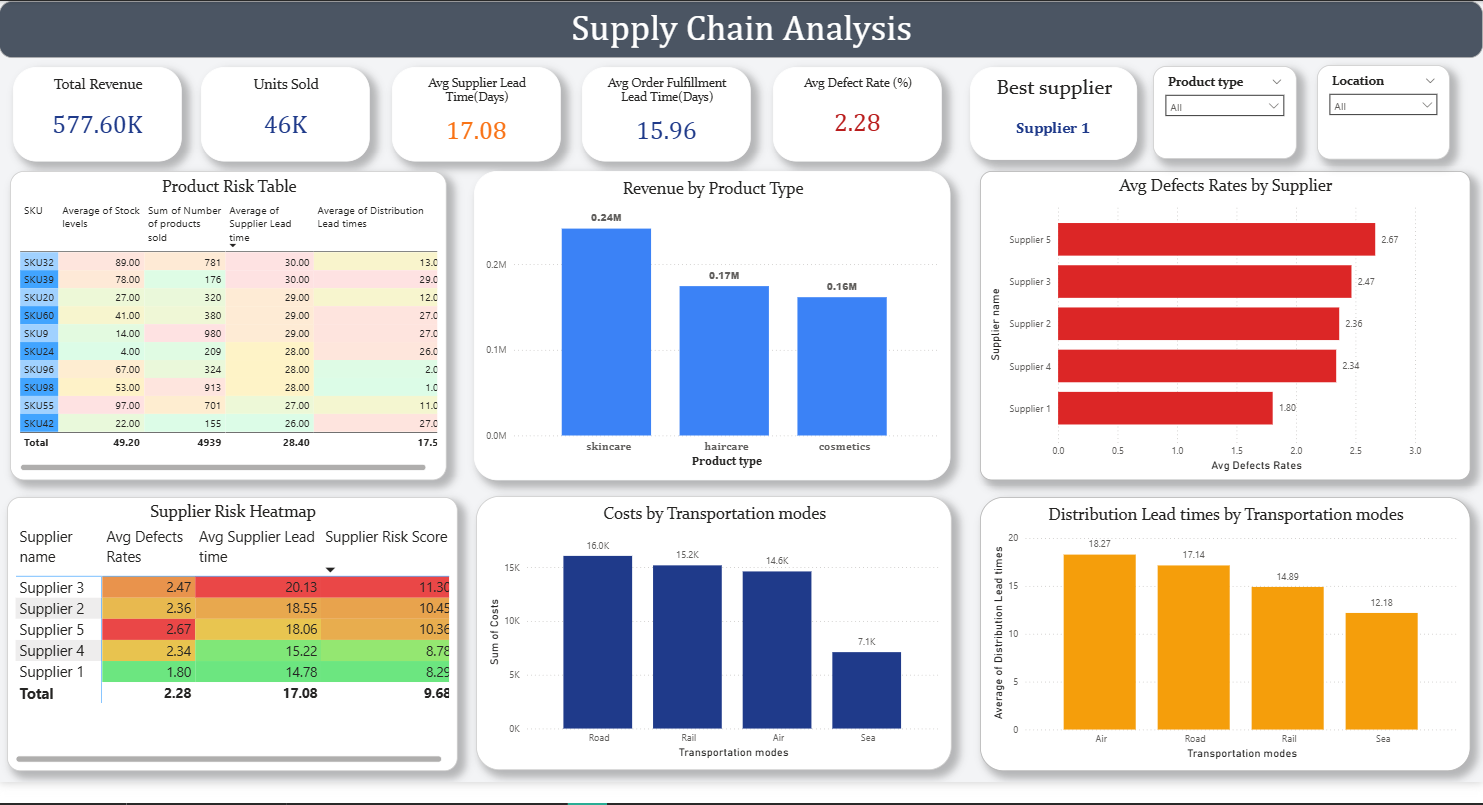

This screenshot's page, from the dashboard's own definition file:
{"tool":"powerbi","page":{"name":"Supply Chain Analysis","canvas":[1900,1000],"ordinal":0},"visuals":[{"type":"textbox","title":"Supply Chain Analysis","box":[0,0,1900,73.3],"z":0},{"type":"cardVisual","title":"Total Revenue","fields":{"Data":["supply_chain_data.Total Revenue"]},"box":[17.4,84.2,216,121],"z":1000},{"type":"cardVisual","title":"Avg Supplier Lead Time(Days)","fields":{"Data":["supply_chain_data.Avg Supplier Lead time"]},"box":[503,84.2,216,121],"z":2000},{"type":"cardVisual","title":"Units Sold","fields":{"Data":["supply_chain_data.Total Units Sold"]},"box":[259.2,84.2,216,121],"z":3000},{"type":"cardVisual","title":"Avg Order Fulfillment Lead Time(Days)","fields":{"Data":["supply_chain_data.Avg Distribution Lead time"]},"box":[746.7,84.2,216,121],"z":4000},{"type":"cardVisual","title":"Avg Defect Rate (%)","fields":{"Data":["supply_chain_data.Avg Defects Rates"]},"box":[990.4,84.2,216,121],"z":5000},{"type":"cardVisual","title":"Best supplier","fields":{"Data":["supply_chain_data.Best supplier"]},"box":[1243.8,84,213.9,119.4],"z":6000},{"type":"tableEx","title":"Product Risk Table","fields":{"Values":["supply_chain_data.SKU","Avg(supply_chain_data.Stock levels)","Sum(supply_chain_data.Number of products sold)","Avg(supply_chain_data.Supplier Lead time)","Avg(supply_chain_data.Distribution Lead times)"]},"box":[14.5,217.4,559.4,395.7],"z":7000},{"type":"clusteredColumnChart","title":"Revenue by Product Type","fields":{"Category":["supply_chain_data.Product type"],"Y":["supply_chain_data.Total Revenue"]},"box":[608.7,217.4,610.1,395.7],"z":8000},{"type":"clusteredBarChart","title":"Avg Defects Rates by Supplier","fields":{"Category":["supply_chain_data.Supplier name"],"Y":["supply_chain_data.Avg Defects Rates"]},"box":[1256.5,217.4,627.5,395.7],"z":9000},{"type":"pivotTable","title":"Supplier Risk Heatmap","fields":{"Rows":["supply_chain_data.Supplier name"],"Values":["supply_chain_data.Avg Defects Rates","supply_chain_data.Avg Supplier Lead time","supply_chain_data.Supplier Risk Score"]},"box":[10.1,634.8,576.8,350.7],"z":10000},{"type":"clusteredColumnChart","title":"Distribution Lead times by Transportation modes","fields":{"Category":["supply_chain_data.Transportation modes"],"Y":["Avg(supply_chain_data.Distribution Lead times)"]},"box":[1256.5,634.8,627.5,350.7],"z":11000},{"type":"slicer","fields":{"Values":["supply_chain_data.Product type"]},"box":[1477.6,83.6,183.6,119.4],"z":12000},{"type":"slicer","fields":{"Values":["supply_chain_data.Location"]},"box":[1688.1,82.1,170.1,120.9],"z":13000},{"type":"clusteredColumnChart","title":"Costs by Transportation modes","fields":{"Category":["supply_chain_data.Transportation modes"],"Y":["Sum(supply_chain_data.Costs)"]},"box":[610.4,634.3,609,350.7],"z":14000}]}

Visuals, with their boxes on the page's 1900x1000 design canvas (x1, y1, x2, y2). These are canvas units, not pixel positions in the 1483x805 screenshot, which may show the page scaled, cropped or inside an application window:
"Supply Chain Analysis" textbox: Rect(0, 0, 1900, 73)
"Total Revenue" cardVisual: Rect(17, 84, 233, 205)
"Avg Supplier Lead Time(Days)" cardVisual: Rect(503, 84, 719, 205)
"Units Sold" cardVisual: Rect(259, 84, 475, 205)
"Avg Order Fulfillment Lead Time(Days)" cardVisual: Rect(747, 84, 963, 205)
"Avg Defect Rate (%)" cardVisual: Rect(990, 84, 1206, 205)
"Best supplier" cardVisual: Rect(1244, 84, 1458, 203)
"Product Risk Table" tableEx: Rect(14, 217, 574, 613)
"Revenue by Product Type" clusteredColumnChart: Rect(609, 217, 1219, 613)
"Avg Defects Rates by Supplier" clusteredBarChart: Rect(1256, 217, 1884, 613)
"Supplier Risk Heatmap" pivotTable: Rect(10, 635, 587, 986)
"Distribution Lead times by Transportation modes" clusteredColumnChart: Rect(1256, 635, 1884, 986)
slicer - supply_chain_data.Product type: Rect(1478, 84, 1661, 203)
slicer - supply_chain_data.Location: Rect(1688, 82, 1858, 203)
"Costs by Transportation modes" clusteredColumnChart: Rect(610, 634, 1219, 985)
